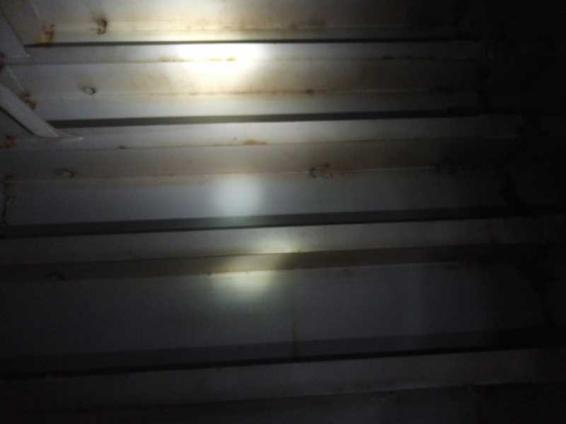corrosion: (292, 159, 355, 181), (285, 18, 342, 41), (227, 131, 275, 152), (6, 92, 41, 115), (80, 9, 106, 39), (36, 18, 65, 39), (73, 79, 100, 96), (64, 164, 90, 180), (106, 146, 129, 152)
